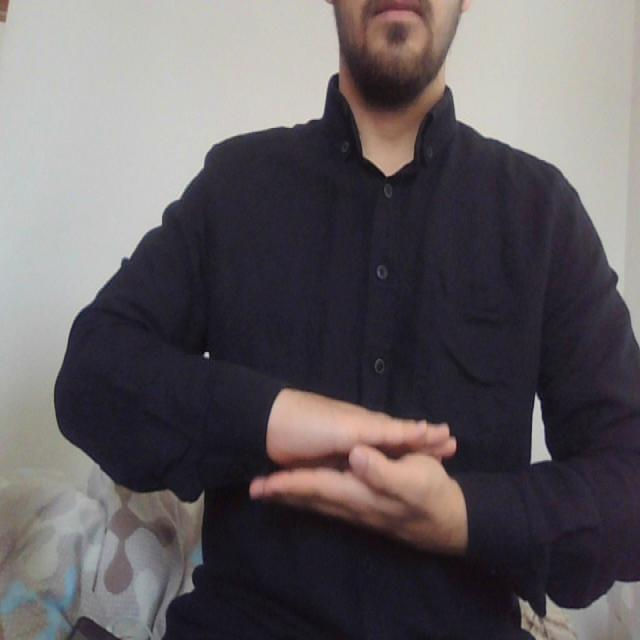Arkadas: (237, 376, 479, 550)
